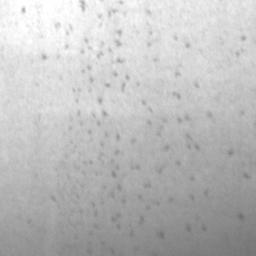Pitted surface: (0, 0, 256, 235), (22, 96, 52, 137), (227, 149, 234, 156)
